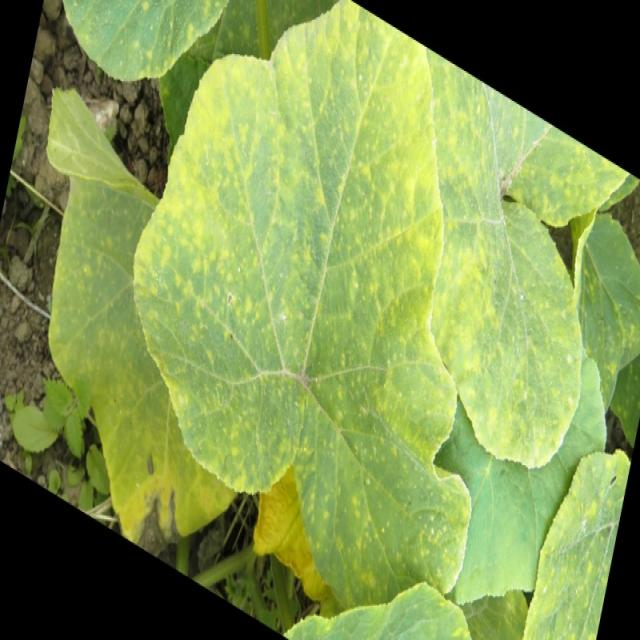Chlorosis: (35, 26, 640, 640)
